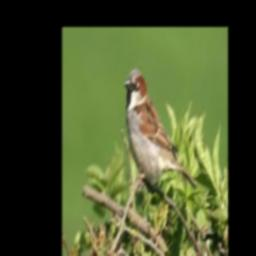Sparrow: (124, 68, 198, 192)
